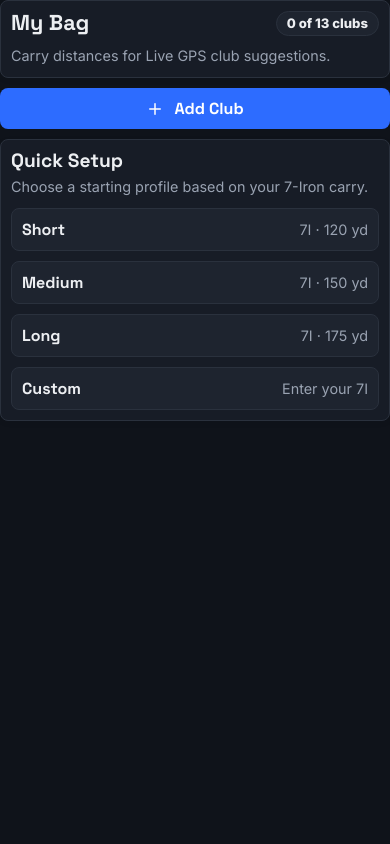
/profile/my-bag page › builds a preview from a custom 7-Iron carry
Click the button "Custom Enter your 7I" at (51, 388), box [11, 367, 379, 410]
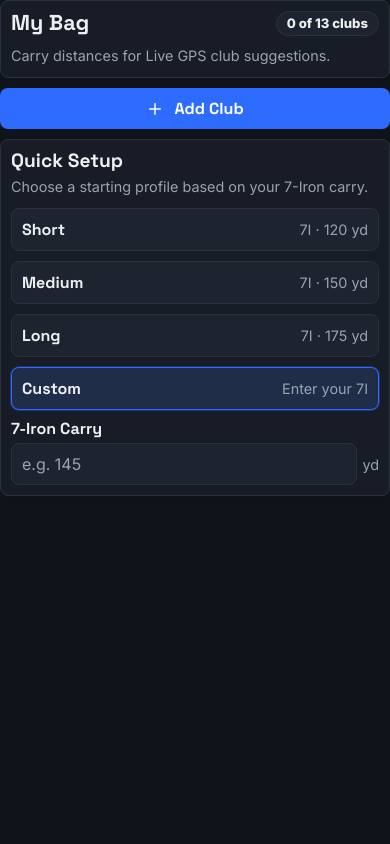
expect the text "Your Starting Bag" is not shown: met
Type "145" into the field labelled "7-Iron Carry" at (184, 464), box [11, 443, 357, 485]
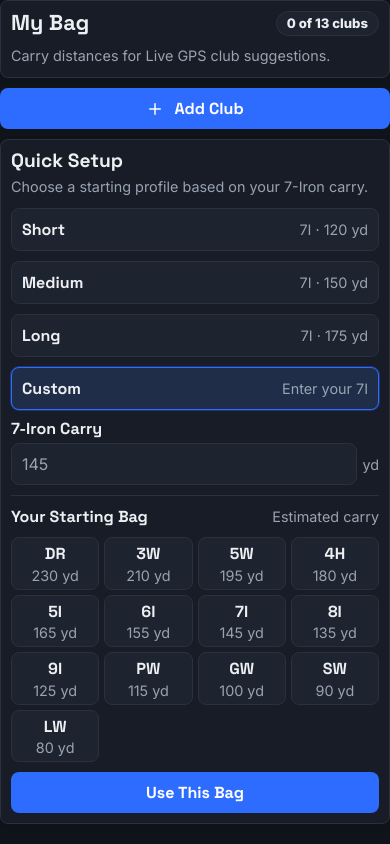
expect the text "Your Starting Bag" is shown: met, box [11, 506, 148, 527]
expect the text "145 yd" is shown: met, box [219, 624, 264, 641]
